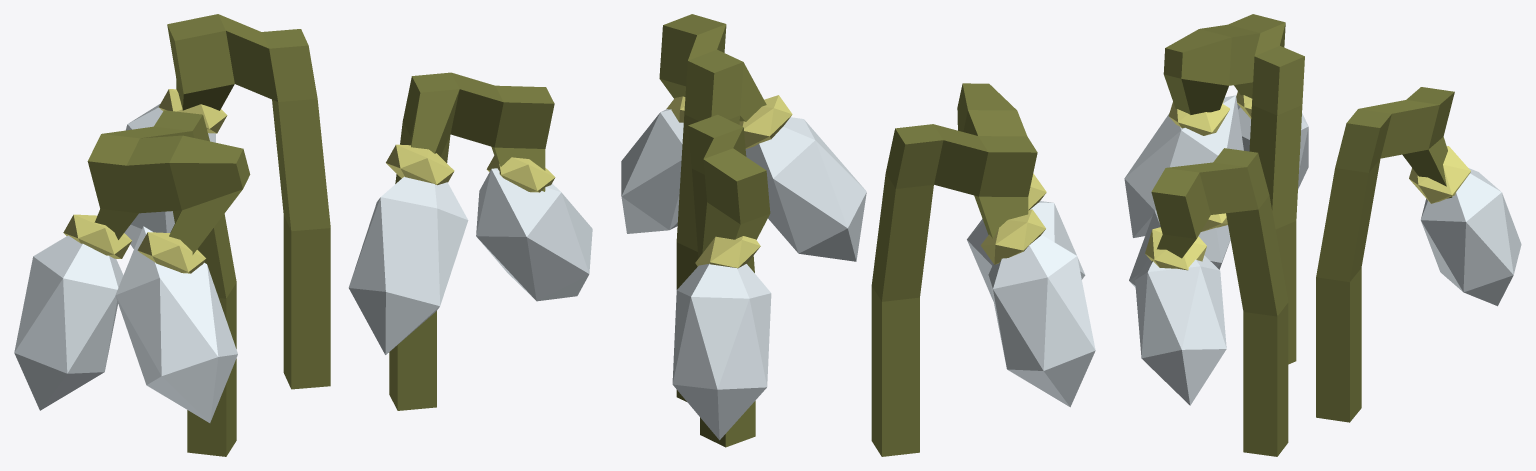
Rendered from オニイワヒゲ.fbx.
3 renders of one model, left to right at view 1: azimuth 30°, elevation 25°; view 2: azimuth 150°, elevation 25°; view 3: azimuth 270°, elevation 25°, orthographic. The views are drawn at different scales.
Visible parts, largest first — view 1: 円柱, ICO球, ICO球.005; view 2: 円柱, ICO球, ICO球.005; view 3: 円柱, ICO球, ICO球.005.
Boxes of the visible parts, x1,y1,x2,y2 form: 円柱: (87, 14, 554, 456); ICO球: (14, 103, 592, 422); ICO球.005: (63, 89, 555, 273); 円柱: (659, 14, 1037, 456); ICO球: (621, 109, 1095, 440); ICO球.005: (666, 95, 1046, 268); 円柱: (1151, 14, 1454, 456); ICO球: (1124, 95, 1521, 405); ICO球.005: (1145, 91, 1470, 270).
Bounding box in the file's own units: 323 × 198 × 236.
